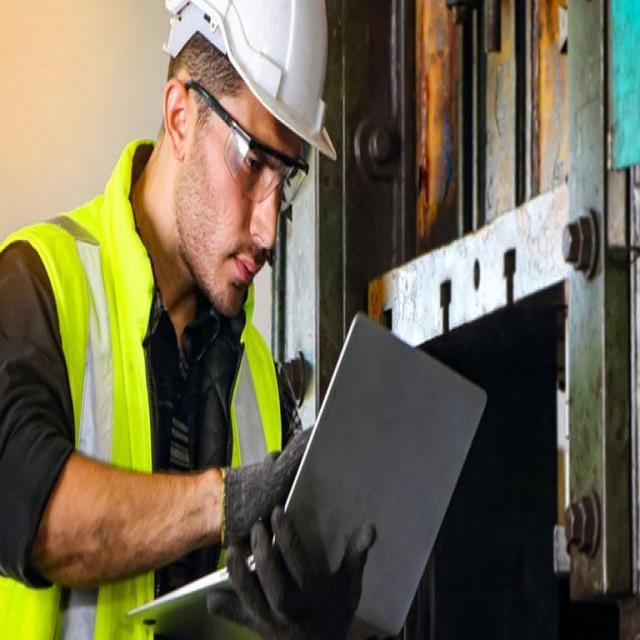Reflective-Jacket: (1, 200, 285, 627)
Safety-Helmet: (165, 1, 337, 163)
